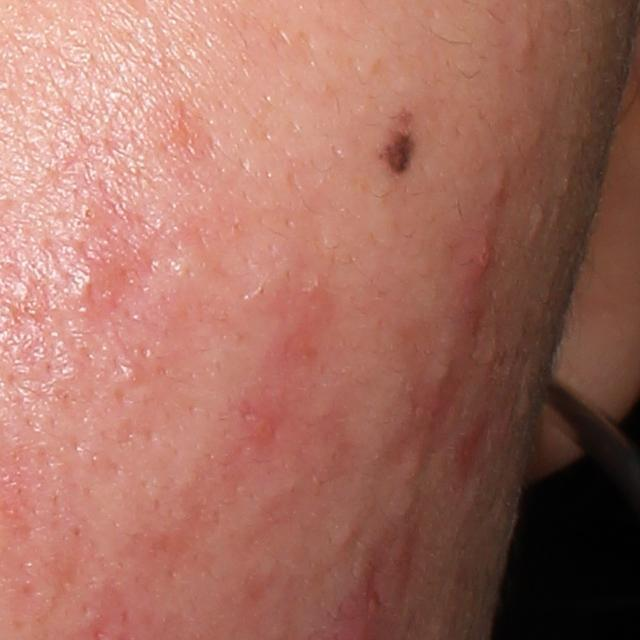comedo: (425, 354, 455, 383), (511, 26, 538, 58), (114, 363, 142, 388)
nevus: (379, 108, 415, 176)
papule: (229, 387, 294, 457), (451, 227, 502, 290), (66, 259, 122, 314)
